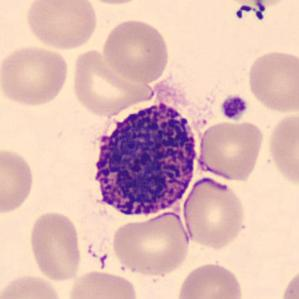Basophil: (83, 95, 202, 224)
Platelets: (220, 94, 250, 122)
RBC: (68, 46, 154, 117), (110, 211, 192, 278), (180, 175, 248, 250), (100, 17, 171, 83), (0, 43, 70, 108), (196, 119, 266, 182), (26, 209, 84, 283), (23, 0, 99, 51), (245, 48, 298, 114), (175, 260, 246, 299), (266, 109, 299, 189), (0, 146, 36, 216), (66, 268, 139, 299), (0, 272, 66, 298), (279, 266, 298, 299), (79, 0, 149, 7), (249, 0, 293, 8)
